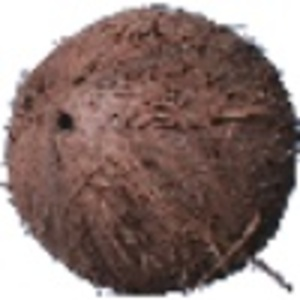coco: (3, 5, 300, 296)
